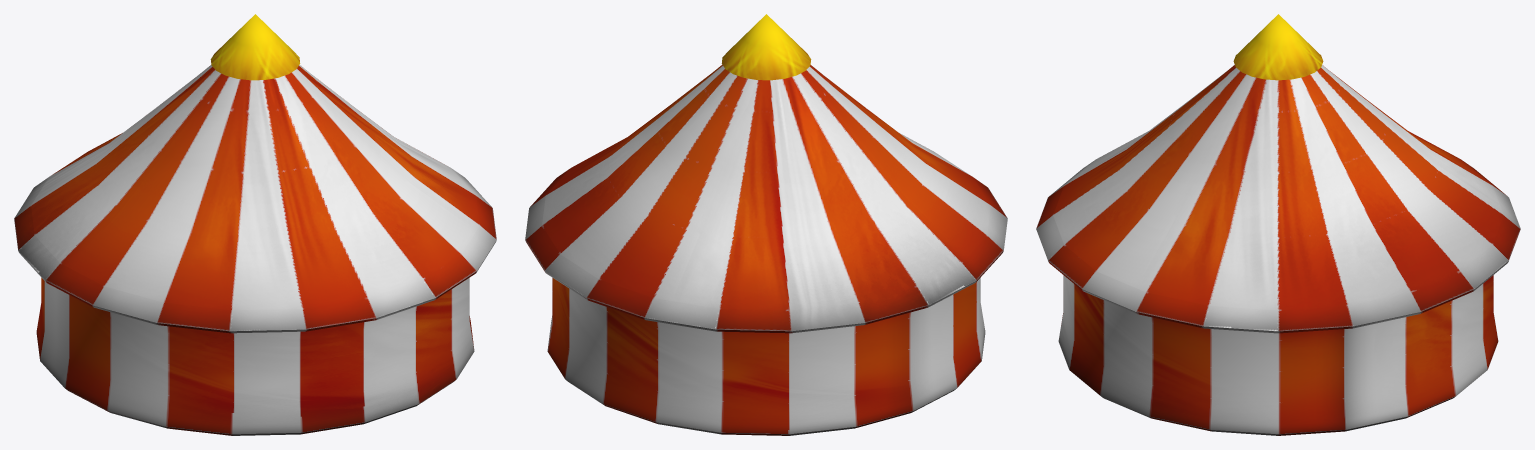
The model's file is tent.fbx.
The picture shows the model from 3 angles, left to right: view 1: azimuth 30°, elevation 25°; view 2: azimuth 150°, elevation 25°; view 3: azimuth 270°, elevation 25°; orthographic projection.
Visible parts, largest first — view 1: pCylinder1; view 2: pCylinder1; view 3: pCylinder1.
Part boxes in pixels (left/top/right/bottom): pCylinder1: left=14, top=14, right=496, bottom=435; pCylinder1: left=525, top=14, right=1007, bottom=435; pCylinder1: left=1036, top=14, right=1520, bottom=435.
Size of the model in its own units: 366 by 275 by 366.
1 material, 1 textured.
